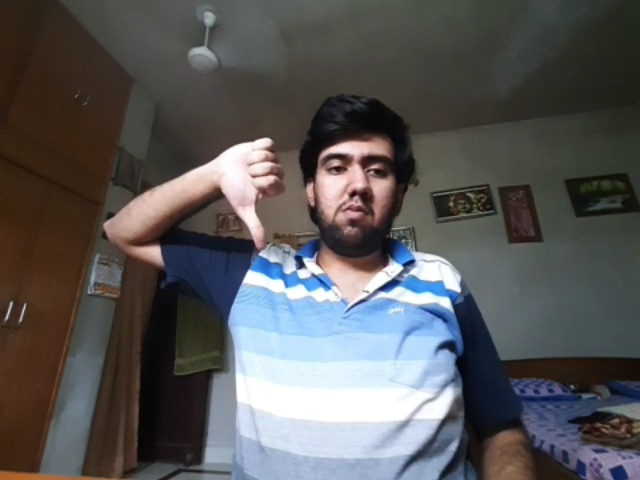NotOk: (221, 137, 286, 249)
